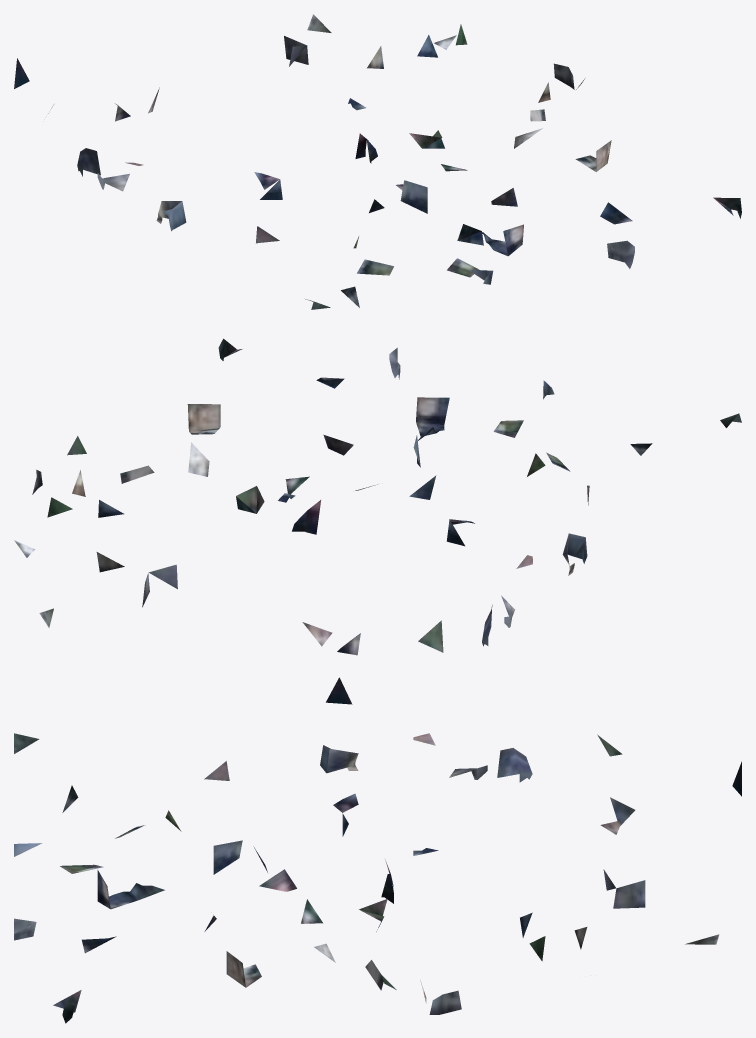
3 renders of one model, top to bottom at view 1: azimuth 30°, elevation 25°; view 2: azimuth 150°, elevation 25°; view 3: azimuth 270°, elevation 25°, orthographic. The views are drawn at different scales.
Visible parts, largest first — view 1: 304362727043615276_1; view 2: 304362727043615276_1; view 3: 304362727043615276_1.
Boxes of the visible parts, x1,y1,x2,y2 form: 304362727043615276_1: [14, 14, 741, 309]; 304362727043615276_1: [14, 338, 741, 704]; 304362727043615276_1: [14, 733, 741, 1023].
Bounding box in the file's own units: 110 × 12.34 × 139.
Materials: 1 (1 with a texture image).
